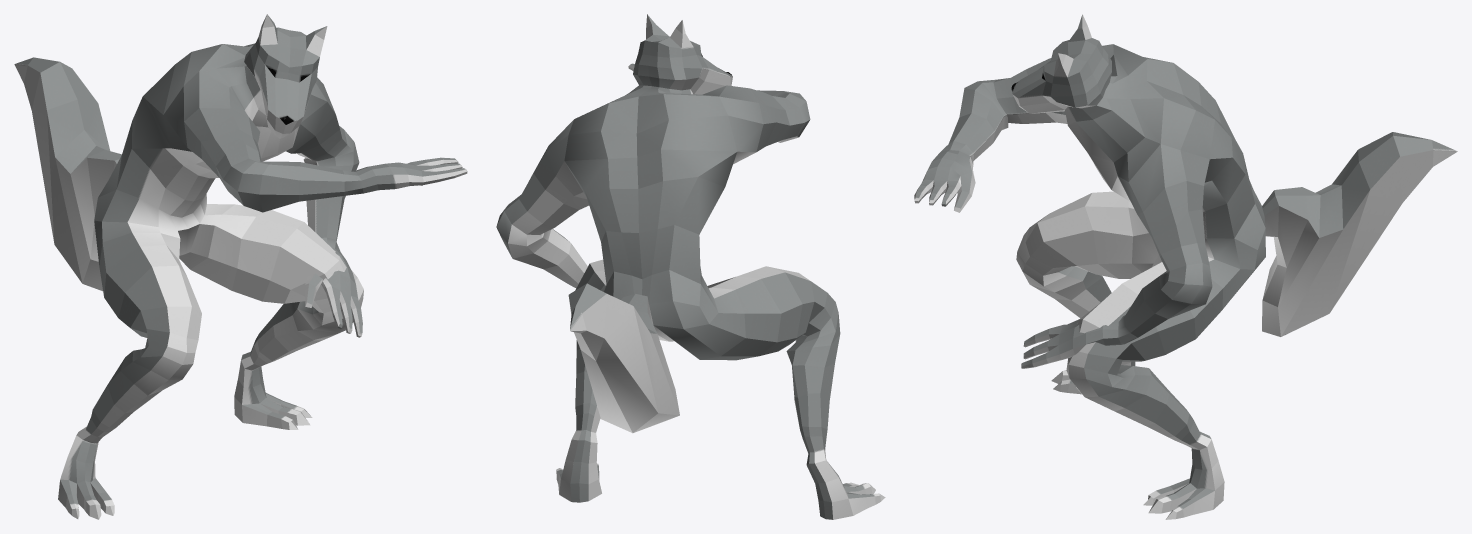
The model's file is WolfAttack(57).obj.
3 views of the same model, side by side, from view 1: azimuth 30°, elevation 25°; view 2: azimuth 150°, elevation 25°; view 3: azimuth 270°, elevation 25° (orthographic). The views are drawn at different scales.
Parts seen in each view (by area): view 1: Box001; view 2: Box001; view 3: Box001.
Part boxes in pixels (left/top/right/bottom): Box001: left=14, top=14, right=467, bottom=519; Box001: left=496, top=14, right=885, bottom=519; Box001: left=914, top=14, right=1457, bottom=519.
Size of the model in its own units: 91.71 by 119 by 126.
